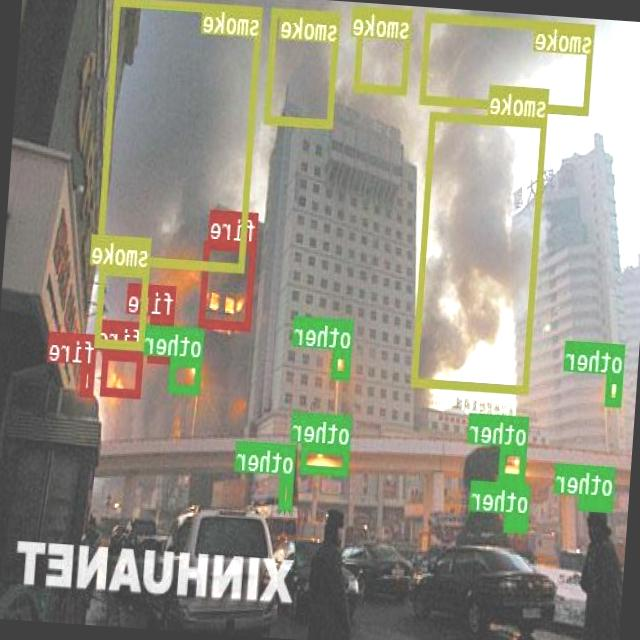fire: (200, 240, 256, 328), (102, 349, 144, 397), (148, 314, 176, 363), (82, 362, 95, 396)
smoke: (96, 0, 263, 270), (412, 110, 548, 392), (420, 11, 596, 114), (264, 5, 340, 126), (354, 6, 414, 93), (96, 264, 150, 347)
